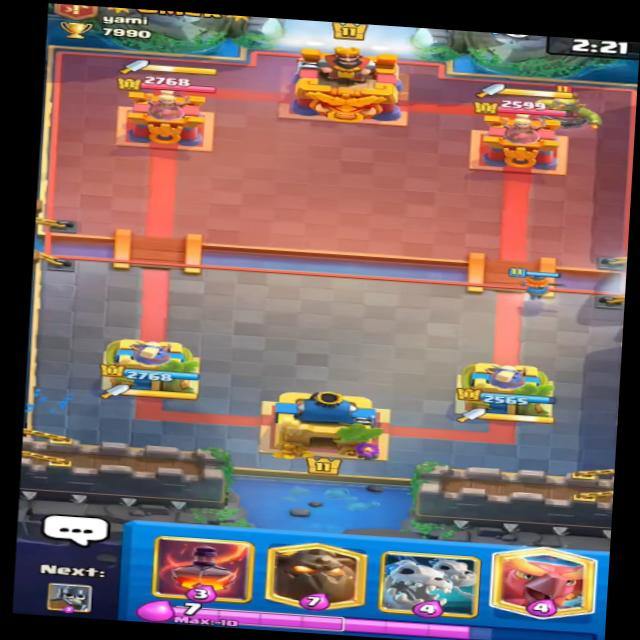goblin-demolisher: (525, 83, 608, 136)
